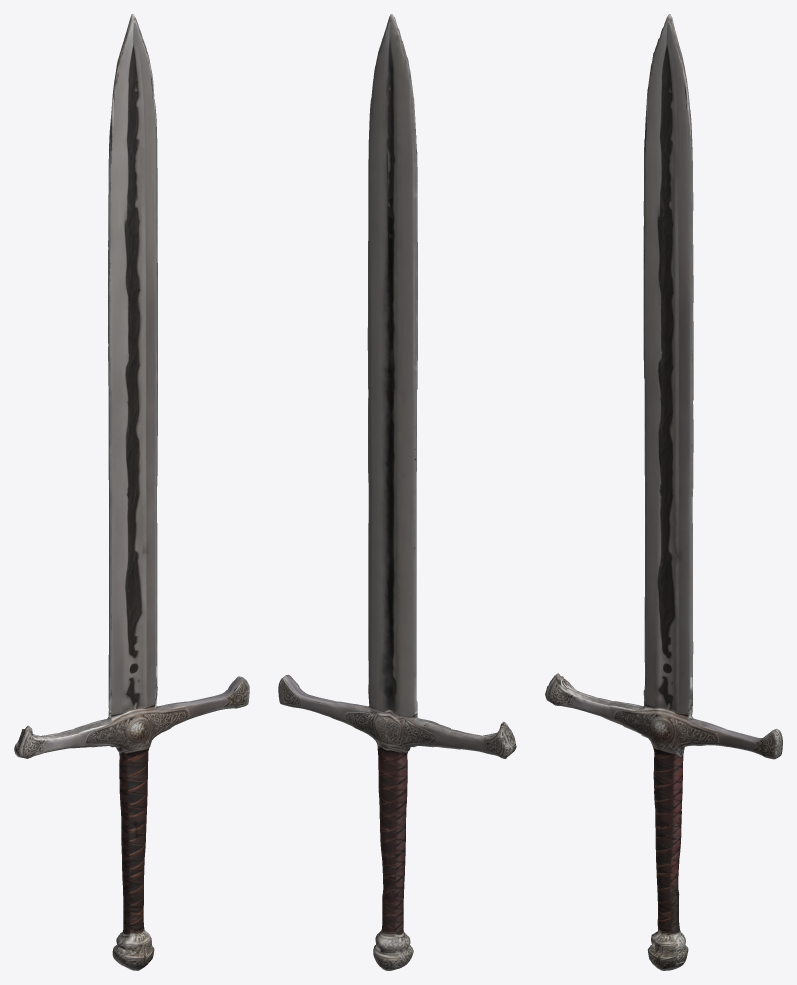
File: Meshy_AI_Ironthorn_0324192526_texture.fbx
3 renders of one model, left to right at view 1: azimuth 30°, elevation 25°; view 2: azimuth 150°, elevation 25°; view 3: azimuth 330°, elevation 25°, orthographic.
Parts seen in each view (by area): view 1: Mesh_0; view 2: Mesh_0; view 3: Mesh_0.
Boxes of the visible parts, left/top/right/bottom form: Mesh_0: left=14, top=14, right=249, bottom=970; Mesh_0: left=278, top=14, right=516, bottom=970; Mesh_0: left=545, top=14, right=782, bottom=970.
Bounding box in the file's own units: 50.67 × 198 × 7.86.
1 material, 1 textured.
